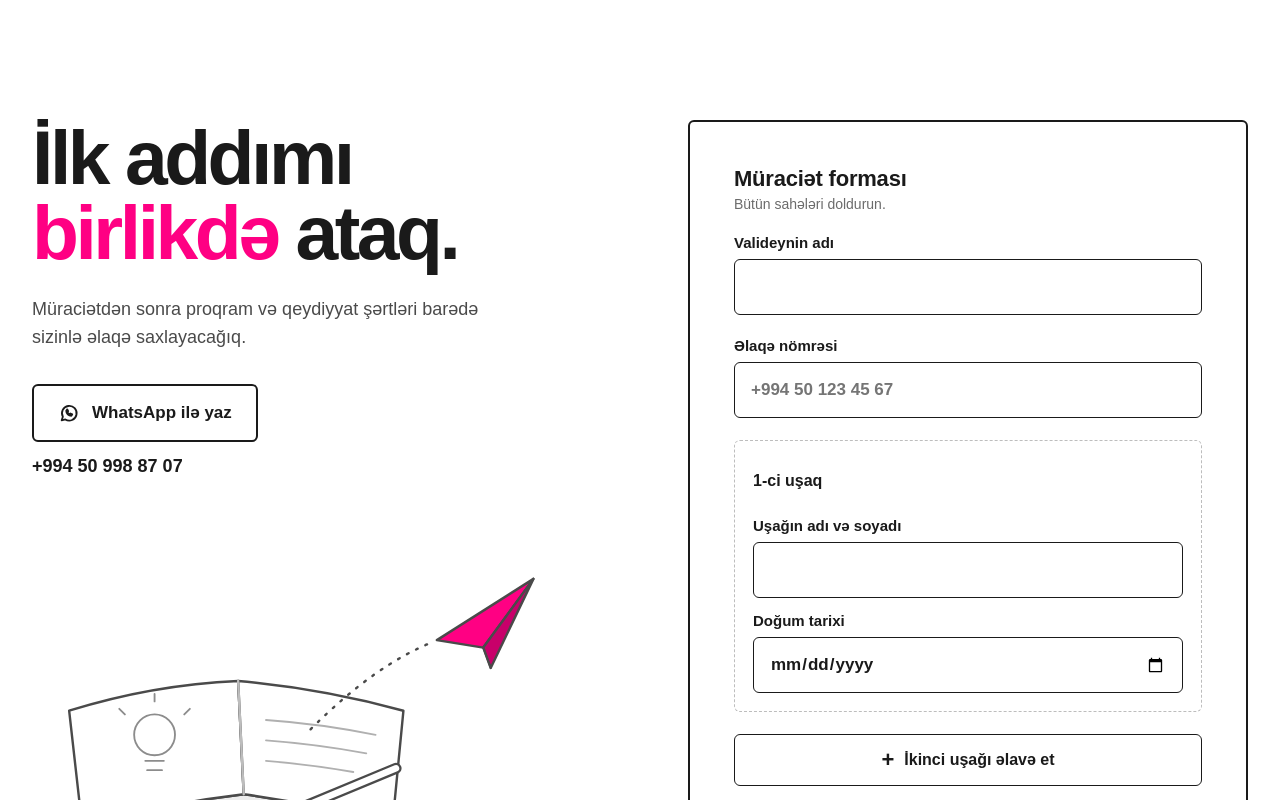
Test case: Apply form › validation › rejects the phone number "12345"
Type "12345" into the field labelled "Əlaqə nömrəsi" at [968, 390], box [734, 362, 1202, 418]
(page scrolled)
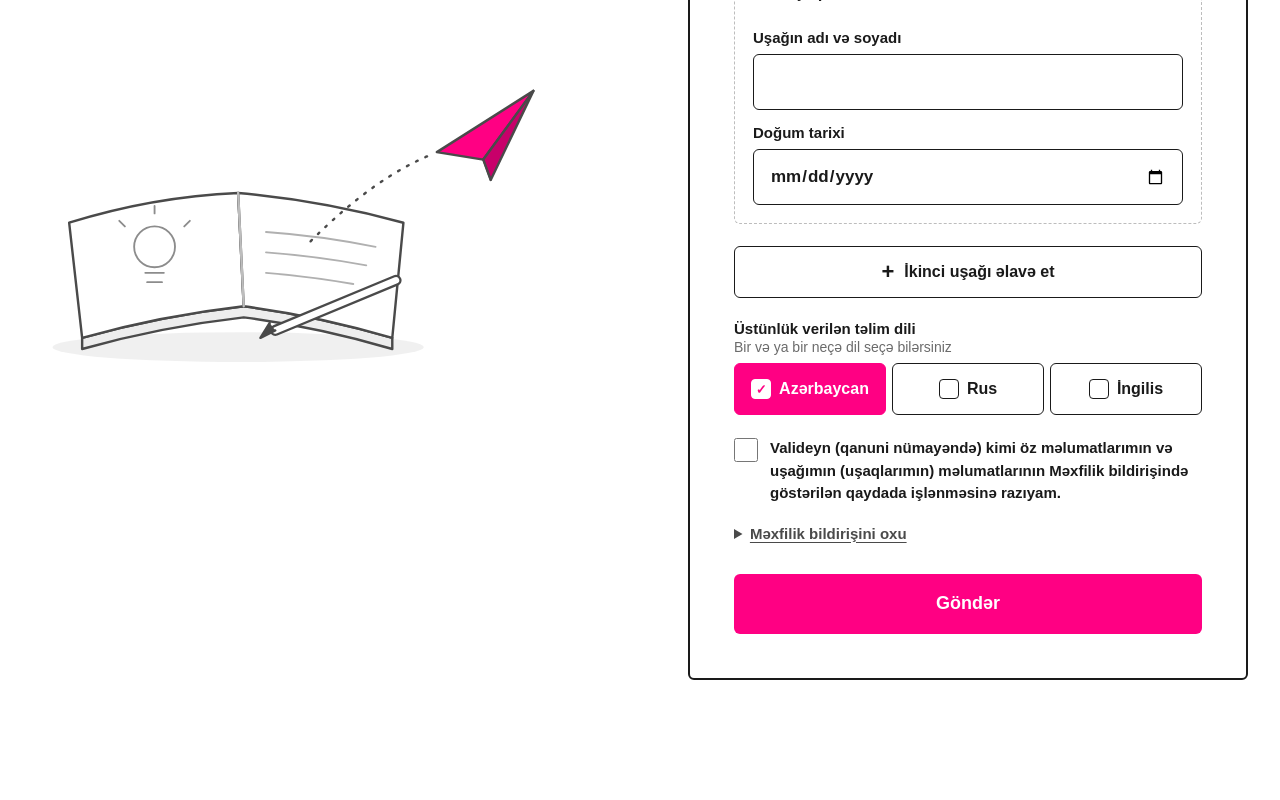
Click the button "Göndər" at [968, 604], box [734, 574, 1202, 634]
(page scrolled)
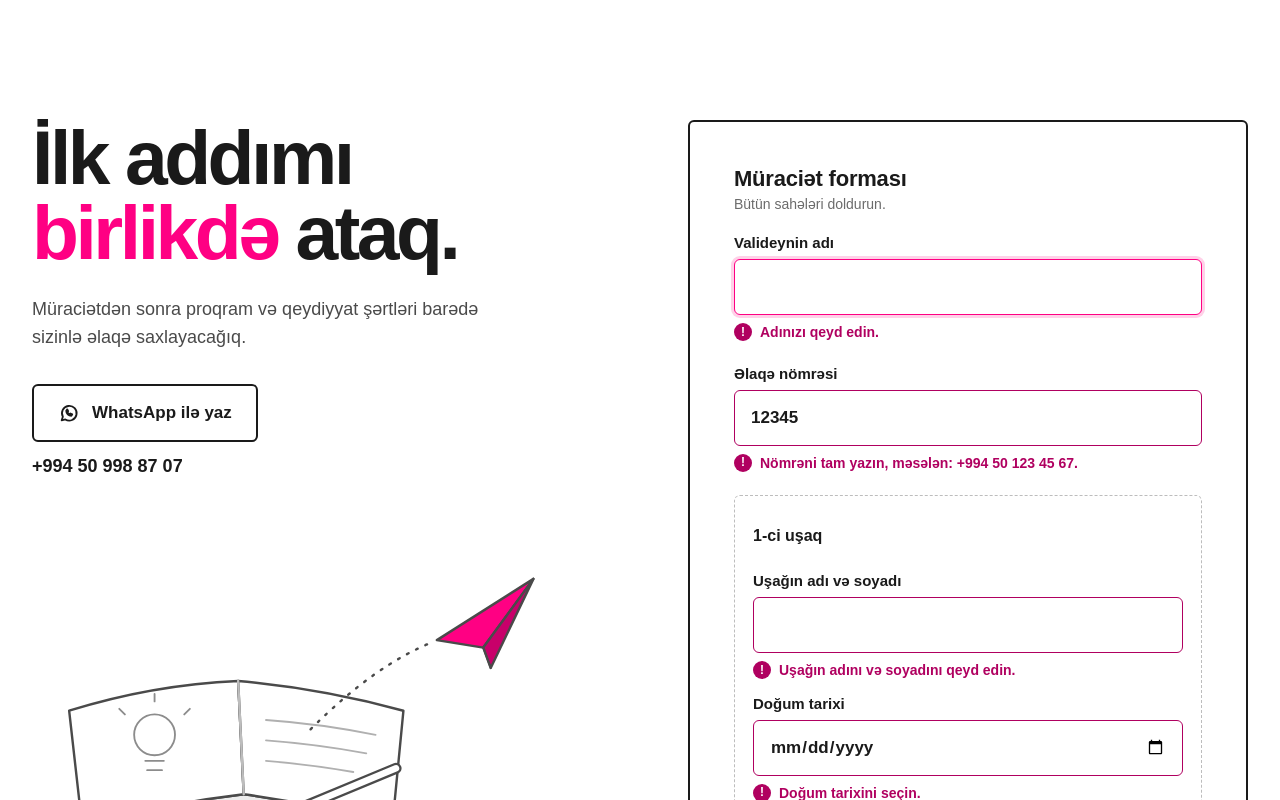
Check: the text "! Nömrəni tam yazın, məsələn: +994 50 123 45 67." is shown, box [734, 454, 1078, 472]
